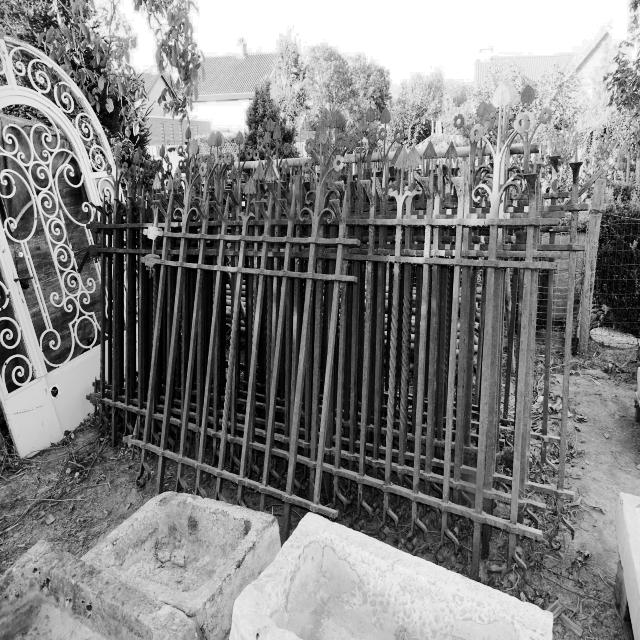fences: (112, 136, 564, 542)
